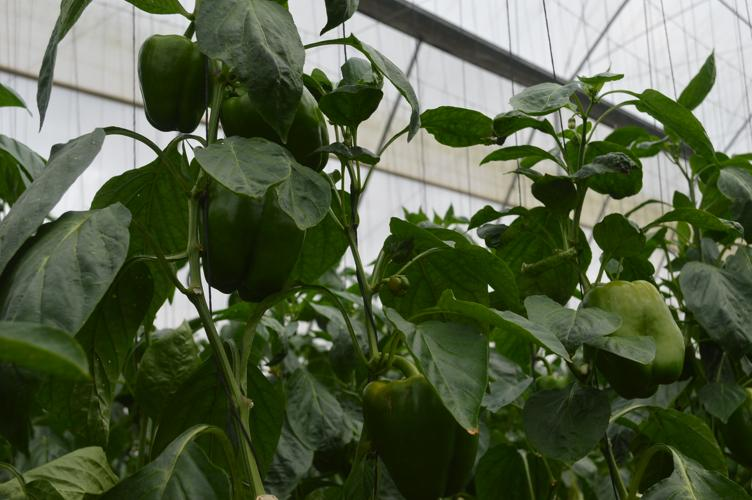BellPepper: (195, 169, 314, 306), (360, 373, 487, 500), (577, 280, 692, 402), (223, 76, 332, 171), (130, 28, 214, 142)
